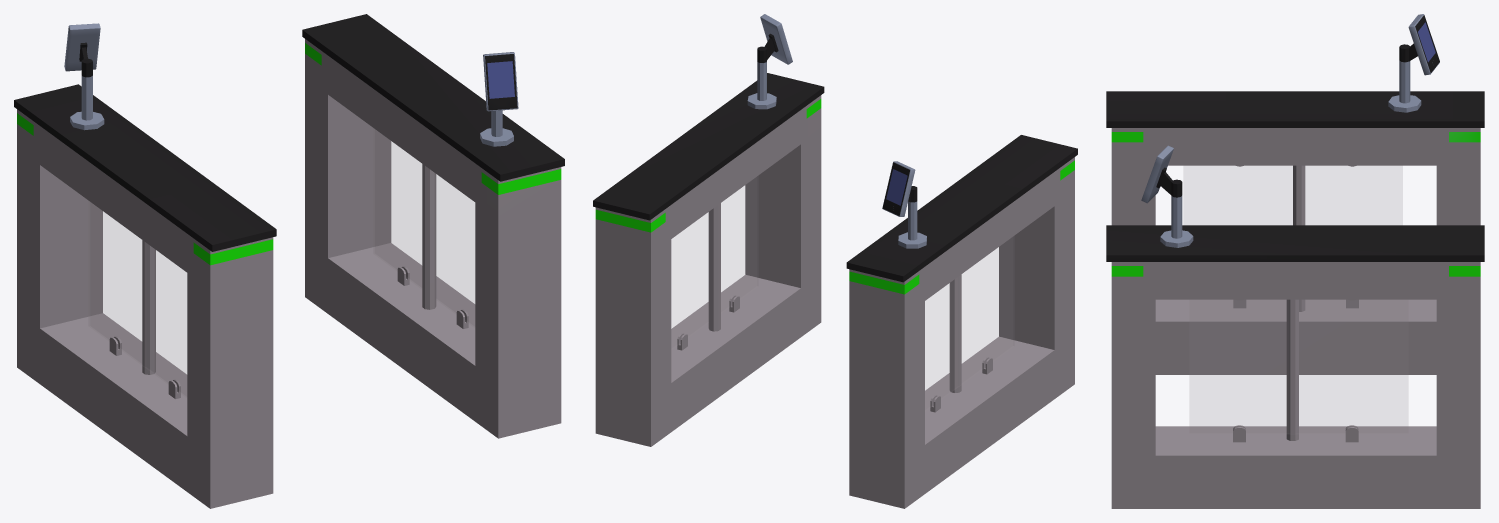
File: SM_FaceID.fbx
3 views of the same model, side by side, from view 1: azimuth 30°, elevation 25°; view 2: azimuth 150°, elevation 25°; view 3: azimuth 270°, elevation 25° (orthographic). The views are drawn at different scales.
Parts seen in each view (by area): view 1: FaceID; view 2: FaceID; view 3: FaceID.
Part boxes in pixels (x1,y1,x2,y2): FaceID: (14, 14, 564, 508); FaceID: (593, 14, 1077, 508); FaceID: (1106, 14, 1484, 508).
Bounding box in the file's own units: 158 × 153 × 154.
